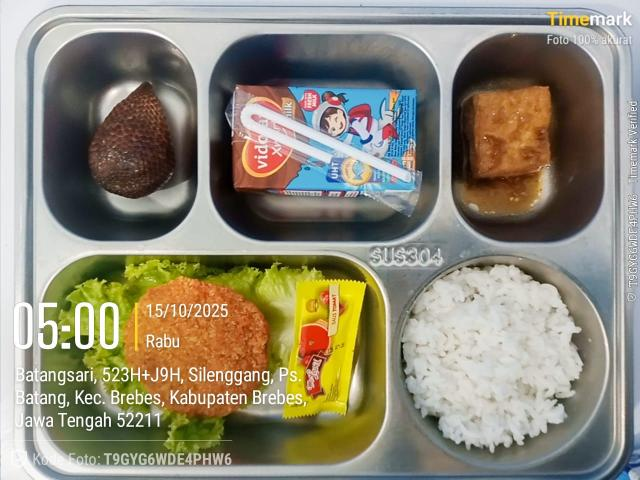ayam: (124, 276, 270, 416)
buah: (88, 82, 175, 198)
nasi: (402, 265, 582, 452)
sayur: (58, 259, 325, 375), (160, 408, 223, 453), (101, 376, 149, 412)
susu: (228, 85, 420, 197)
tahu: (466, 86, 551, 178)
